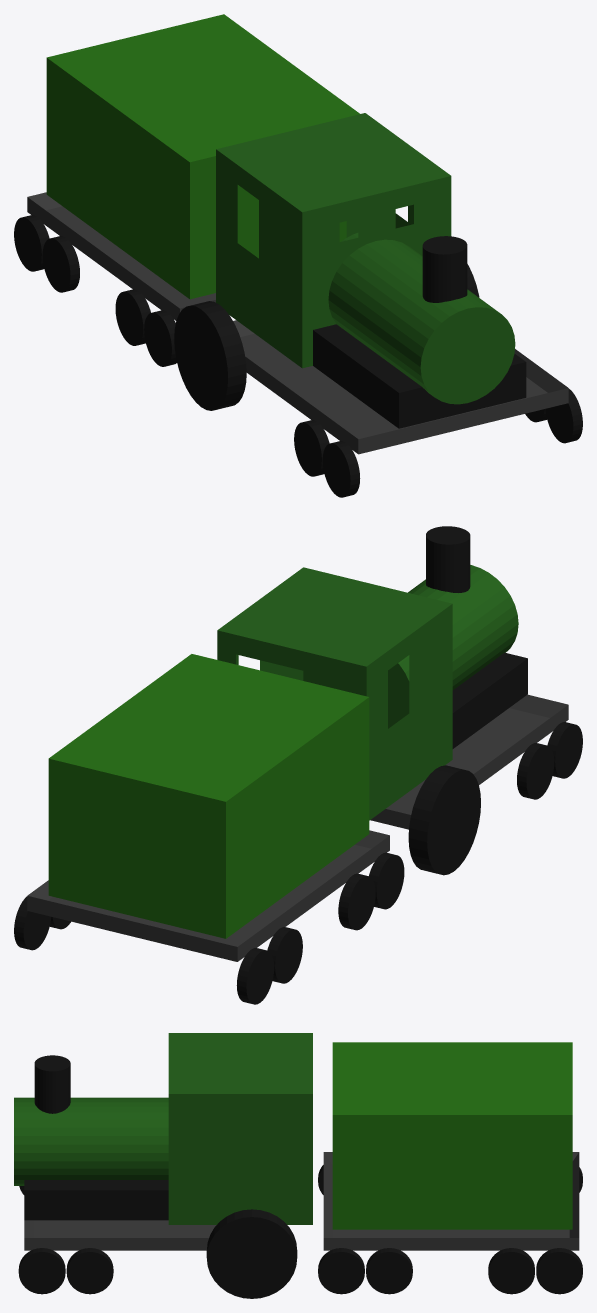
Rendered from train.obj.
3 views of the same model, one above another, from view 1: azimuth 30°, elevation 25°; view 2: azimuth 150°, elevation 25°; view 3: azimuth 270°, elevation 25° (orthographic). The views are drawn at different scales.
Visible parts, largest first — view 1: Cube.004, Cube.001, Cylinder, Cube, Cube.002, Circle.010, Cube.003, Cylinder.001, Circle.004, Circle.013, Circle.008, Circle.009 (+3 smaller); view 2: Cube.004, Cube.001, Cube.003, Cylinder, Circle.010, Cube, Cube.002, Cylinder.001, Circle.005, Circle.009, Circle.014, Circle.008 (+3 smaller); view 3: Cube.004, Cube.001, Cylinder, Cube.003, Circle.002, Cube.002, Cube, Cylinder.001, Circle.007, Circle.006, Circle.003, Circle.001 (+2 smaller).
Boxes of the visible parts, <box> form: Cube.004: <box>46,14,359,299</box>; Cube.001: <box>216,113,451,368</box>; Cylinder: <box>328,233,515,404</box>; Cube: <box>233,320,568,454</box>; Cube.002: <box>313,324,526,428</box>; Circle.010: <box>174,301,246,410</box>; Cube.003: <box>27,192,215,320</box>; Cylinder.001: <box>422,236,467,302</box>; Circle.004: <box>322,441,360,497</box>; Circle.013: <box>42,236,79,292</box>; Circle.008: <box>144,310,176,366</box>; Circle.009: <box>115,289,150,345</box>; Cube.004: <box>48,654,369,938</box>; Cube.001: <box>217,567,452,820</box>; Cube.003: <box>27,830,389,961</box>; Cylinder: <box>318,565,518,728</box>; Circle.010: <box>408,765,480,875</box>; Cube: <box>370,694,568,829</box>; Cube.002: <box>452,652,527,748</box>; Cylinder.001: <box>426,526,470,592</box>; Circle.005: <box>517,743,554,799</box>; Circle.009: <box>338,873,375,930</box>; Circle.014: <box>236,948,274,1004</box>; Circle.008: <box>369,852,404,909</box>; Cube.004: <box>332,1042,572,1229</box>; Cube.001: <box>168,1033,312,1224</box>; Cylinder: <box>14,1097,168,1185</box>; Cube.003: <box>323,1152,579,1250</box>; Circle.002: <box>206,1209,297,1298</box>; Cube.002: <box>24,1180,168,1220</box>; Cube: <box>24,1220,216,1250</box>; Cylinder.001: <box>34,1055,70,1113</box>; Circle.007: <box>366,1248,412,1294</box>; Circle.006: <box>318,1248,364,1294</box>; Circle.003: <box>18,1248,65,1294</box>; Circle.001: <box>66,1248,113,1294</box>.
Bounding box in the file's own units: 1.92 × 1.58 × 4.45.
